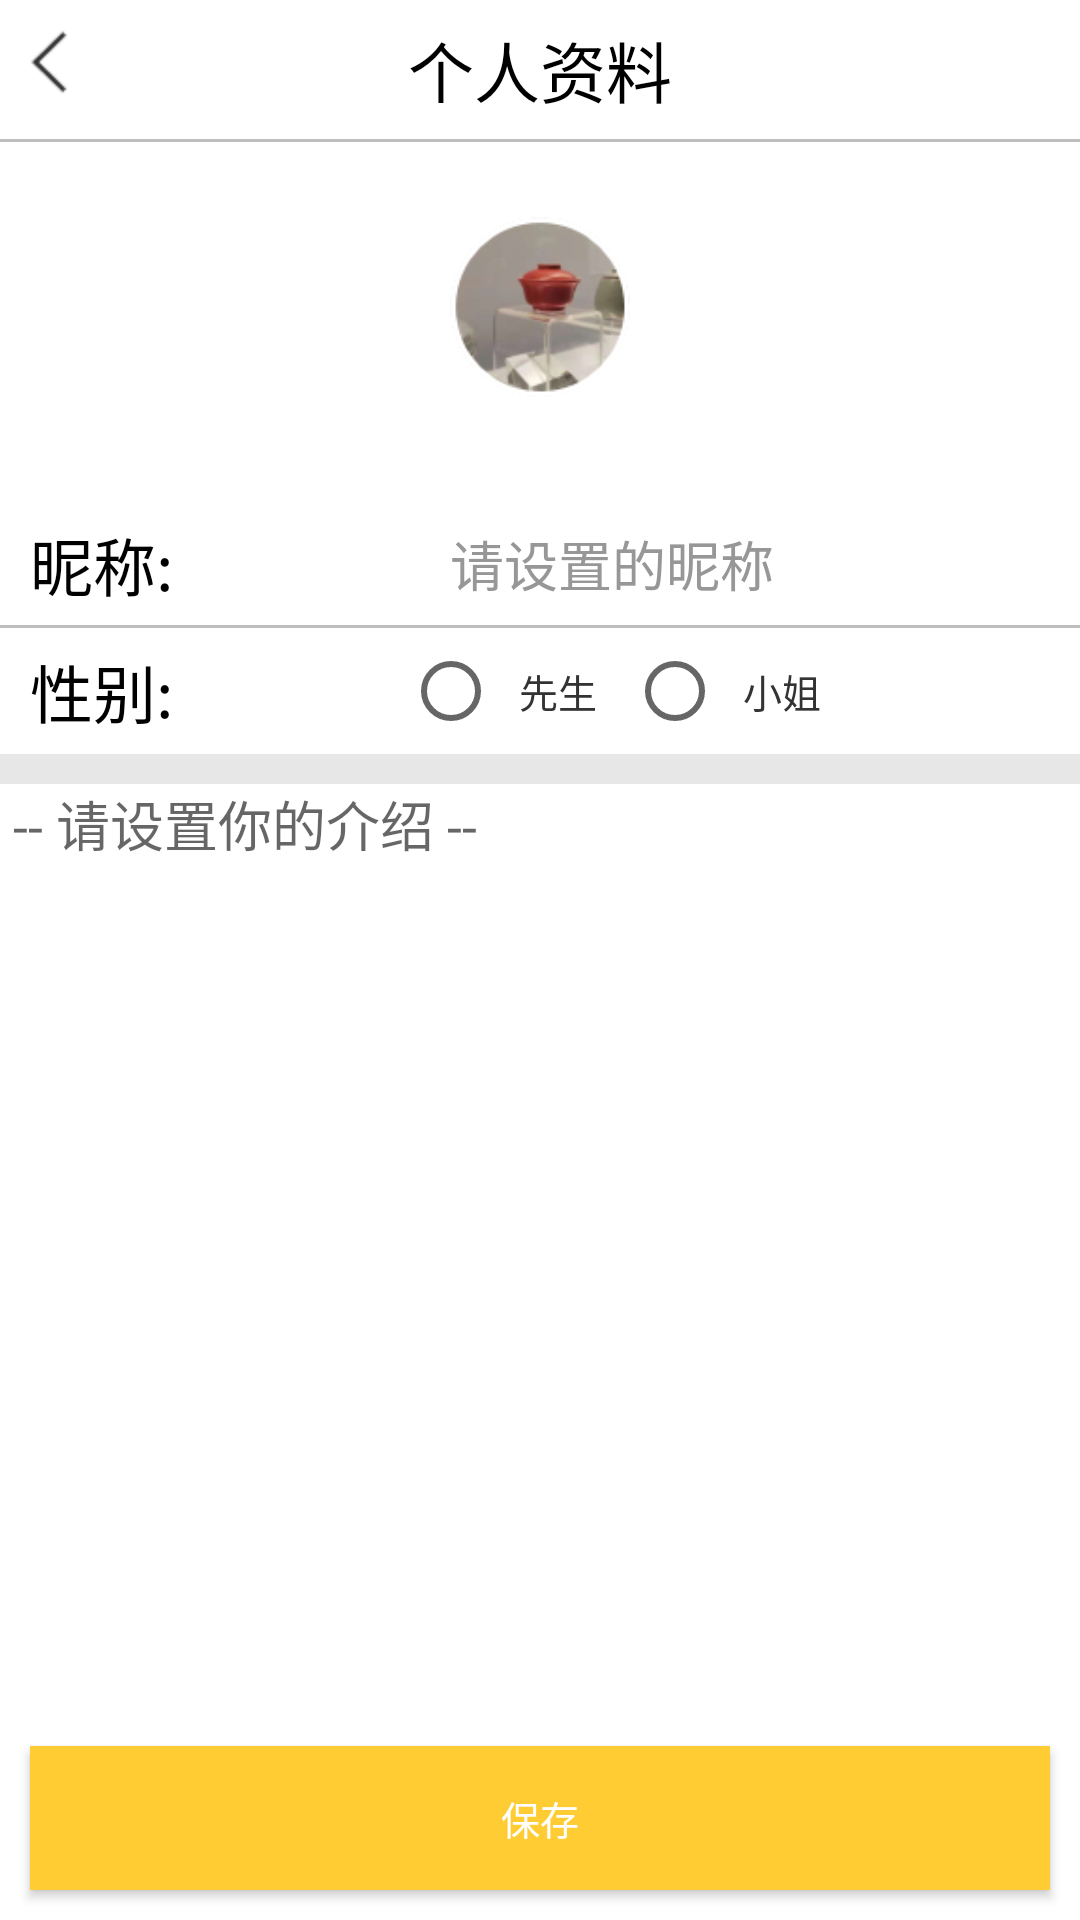

Locate icon controls on the screen. Image size 1080px×1920px, boxes as [x1=x1, y1=y1, x2=x2, y2=y2].
arrow left back: [x1=31, y1=31, x2=67, y2=93]
